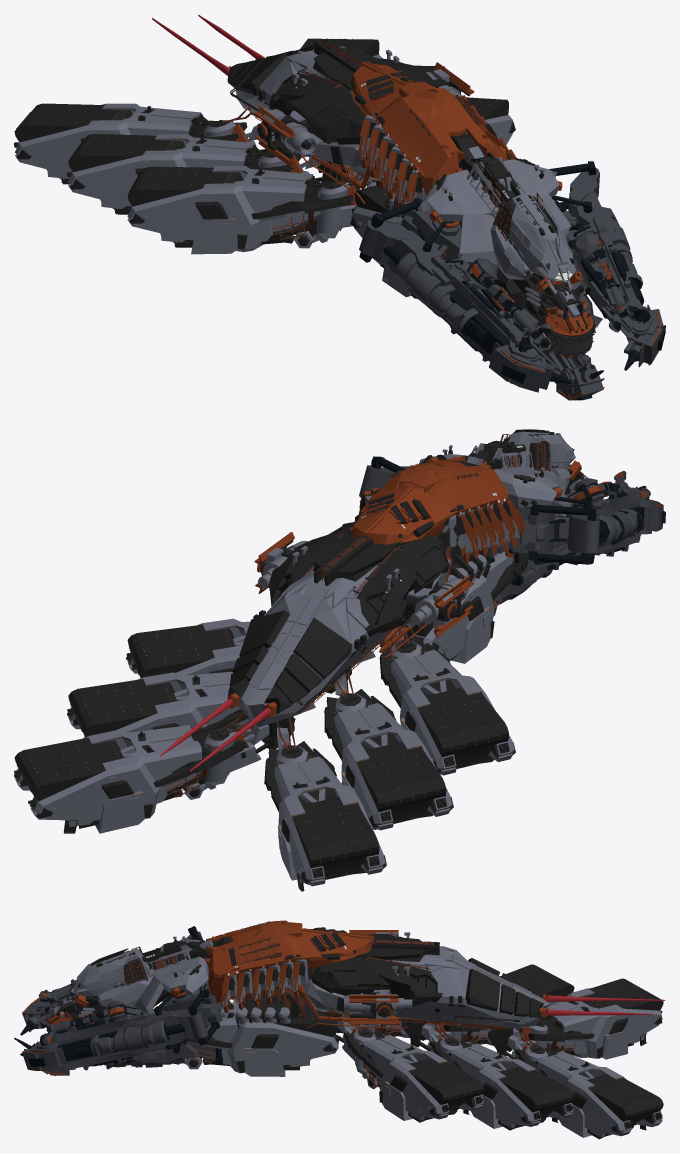
File: CAP_ARM_Imp_LowRes.fbx
3 renders of one model, top to bottom at view 1: azimuth 30°, elevation 25°; view 2: azimuth 150°, elevation 25°; view 3: azimuth 270°, elevation 25°, orthographic. The views are drawn at different scales.
Parts seen in each view (by area): view 1: mesh_hull, mesh_capsule01_right, mesh_arm02_right, mesh_capsule02_right, mesh_capsule03_right, mesh_arm02_left, mesh_arm01_left, mesh_arm01_right, mesh_arm02_bottom, mesh_capsule01_left, mesh_vfx_thrusters, mesh_capsule03_left; view 2: mesh_hull, mesh_capsule03_left, mesh_capsule03_right, mesh_capsule02_right, mesh_capsule01_right, mesh_capsule02_left, mesh_arm02_right, mesh_capsule01_left, mesh_arm02_bottom, mesh_arm01_right, mesh_vfx_thrusters, mesh_arm02_left; view 3: mesh_hull, mesh_arm02_left, mesh_capsule01_left, mesh_capsule03_right, mesh_capsule03_left, mesh_capsule02_left, mesh_capsule02_right, mesh_arm02_bottom, mesh_arm01_left, mesh_arm02_right, mesh_vfx_thrusters, mesh_capsule01_right (+1 smaller).
Part boxes in pixels (x1,y1,x2,y2): mesh_hull: (227,38,602,358); mesh_capsule01_right: (126,166,363,254); mesh_arm02_right: (359,198,572,392); mesh_capsule02_right: (67,134,322,214); mesh_capsule03_right: (14,103,264,184); mesh_arm02_left: (549,161,665,370); mesh_arm01_left: (567,231,650,332); mesh_arm01_right: (465,258,553,352); mesh_arm02_bottom: (500,286,604,400); mesh_capsule01_left: (466,97,515,144); mesh_vfx_thrusters: (152,14,265,75); mesh_capsule03_left: (290,38,382,157); mesh_hull: (228,429,587,749); mesh_capsule03_left: (14,711,269,833); mesh_capsule03_right: (264,717,386,891); mesh_capsule02_right: (324,672,453,830); mesh_capsule01_right: (379,625,515,775); mesh_capsule02_left: (67,672,325,742); mesh_arm02_right: (491,488,665,564); mesh_capsule01_left: (126,618,383,677); mesh_arm02_bottom: (483,541,581,604); mesh_arm01_right: (555,471,650,517); mesh_vfx_thrusters: (160,696,271,771); mesh_arm02_left: (359,456,409,507); mesh_hull: (46,920,548,1076); mesh_arm02_left: (20,986,223,1071); mesh_capsule01_left: (335,1015,483,1122); mesh_capsule03_right: (511,978,663,1059); mesh_capsule03_left: (505,1027,663,1139); mesh_capsule02_left: (419,1023,574,1130); mesh_capsule02_right: (425,964,574,1047); mesh_arm02_bottom: (14,983,225,1075); mesh_arm01_left: (39,1000,140,1045); mesh_arm02_right: (20,926,203,1035); mesh_vfx_thrusters: (545,994,665,1015); mesh_capsule01_right: (339,1015,409,1038).
Bounding box in the file's own units: 230 × 124 × 448.
